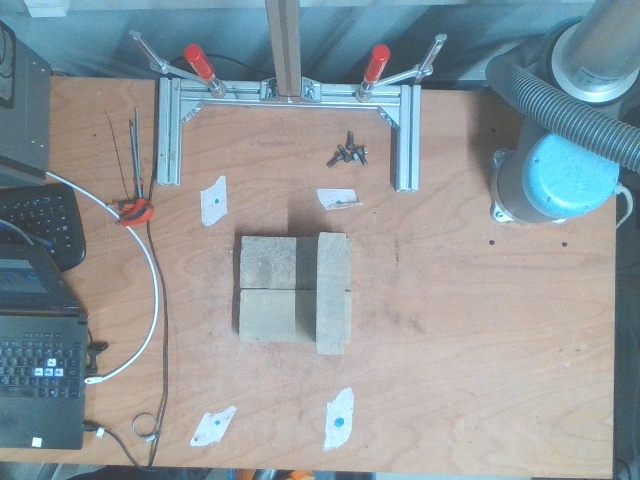brick-side: (316, 234, 343, 351)
